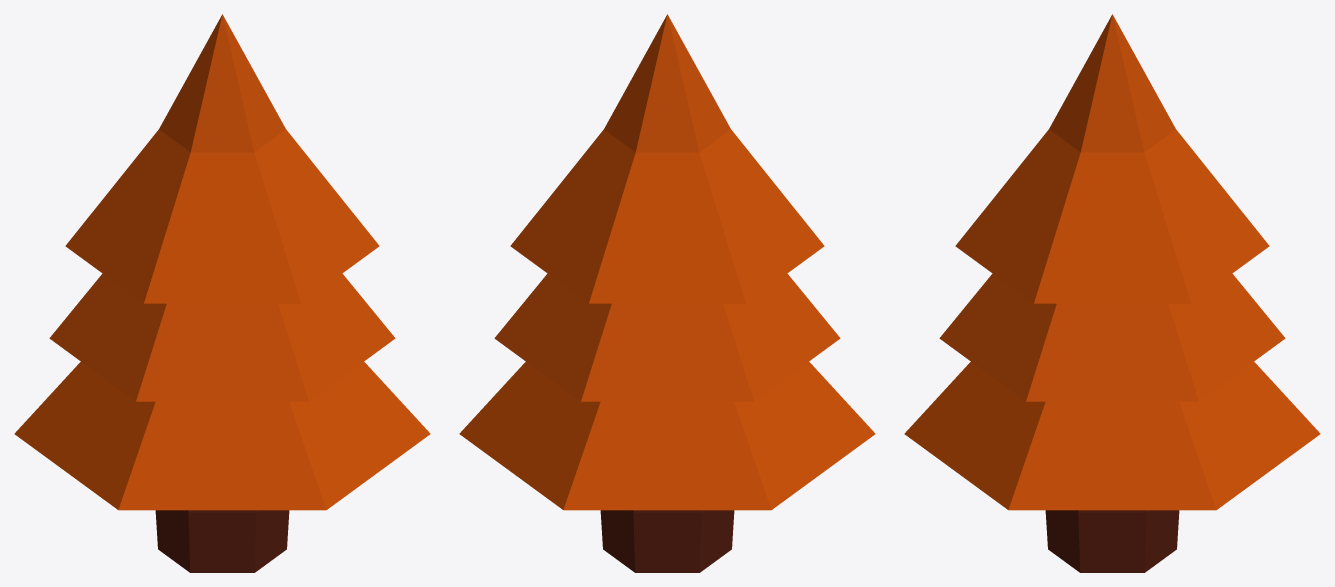
File: tree_b_orange.obj
3 renders of one model, left to right at view 1: azimuth 30°, elevation 25°; view 2: azimuth 150°, elevation 25°; view 3: azimuth 270°, elevation 25°, orthographic.
Visible parts, largest first — view 1: treetop_b_orange_Cylinder.006, trunk_b_orange_Cylinder.007; view 2: treetop_b_orange_Cylinder.006, trunk_b_orange_Cylinder.007; view 3: treetop_b_orange_Cylinder.006, trunk_b_orange_Cylinder.007.
Boxes of the visible parts, x1,y1,x2,y2 form: treetop_b_orange_Cylinder.006: [14, 14, 430, 510]; trunk_b_orange_Cylinder.007: [155, 510, 289, 572]; treetop_b_orange_Cylinder.006: [459, 14, 875, 510]; trunk_b_orange_Cylinder.007: [600, 510, 734, 572]; treetop_b_orange_Cylinder.006: [904, 14, 1320, 510]; trunk_b_orange_Cylinder.007: [1045, 510, 1179, 572].
Size of the model in its own units: 5.6 by 9.16 by 6.46.
